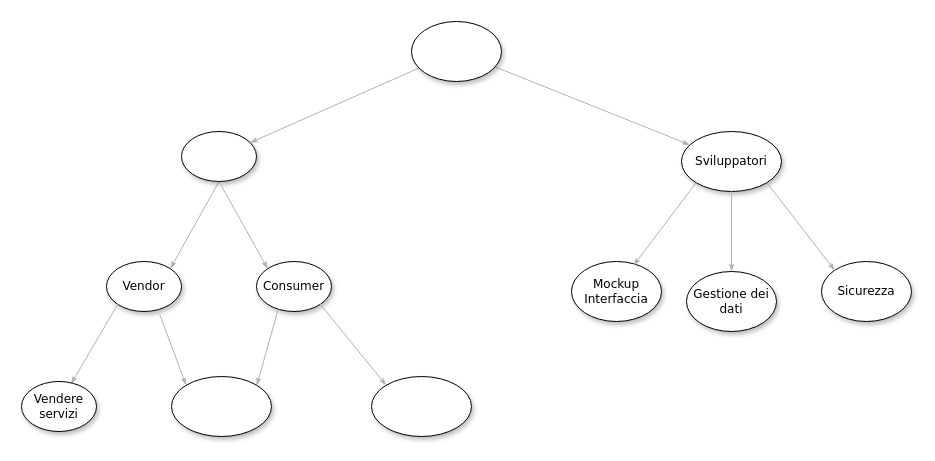
This 935x461 diagram has some shape labels left out. The shapes that lost their labels are listed below. From the top down, each one's centre as x and y in pixels, then its label:
At (x=457, y=52): "Creare Web App".
At (x=219, y=157): "Utenti".
At (x=222, y=408): "Visualizzare i dati".
At (x=422, y=408): "Aggiungere i propri edifici".
